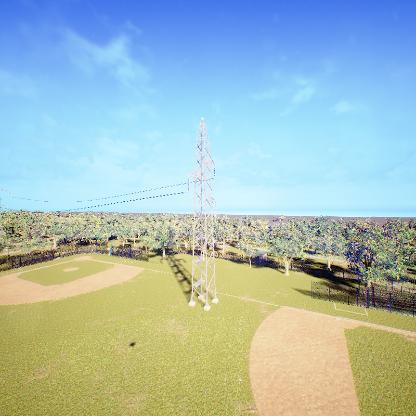tower: (185, 111, 220, 309)
